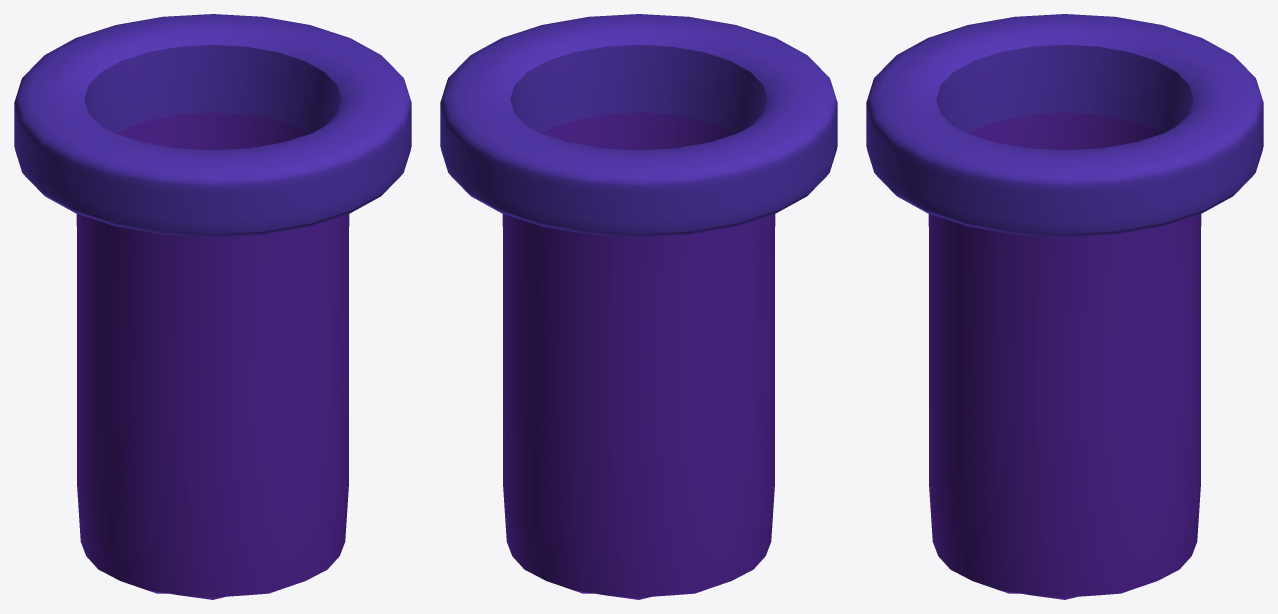
Rendered from pipe.fbx.
3 views of the same model, side by side, from view 1: azimuth 30°, elevation 25°; view 2: azimuth 150°, elevation 25°; view 3: azimuth 270°, elevation 25° (orthographic).
Parts seen in each view (by area): view 1: Cylinder.010; view 2: Cylinder.010; view 3: Cylinder.010.
Boxes of the visible parts, box(x1,y1,x2,y2) form: Cylinder.010: box(14, 14, 411, 599); Cylinder.010: box(440, 14, 837, 599); Cylinder.010: box(866, 14, 1263, 599).
Size of the model in its own units: 330 by 426 by 330.
